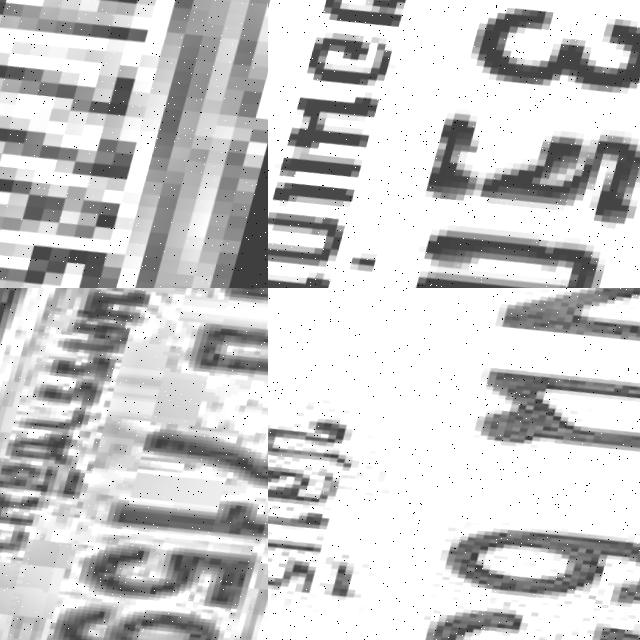license-plate: (268, 288, 640, 640), (268, 0, 640, 288), (0, 288, 268, 640), (0, 0, 268, 288)
